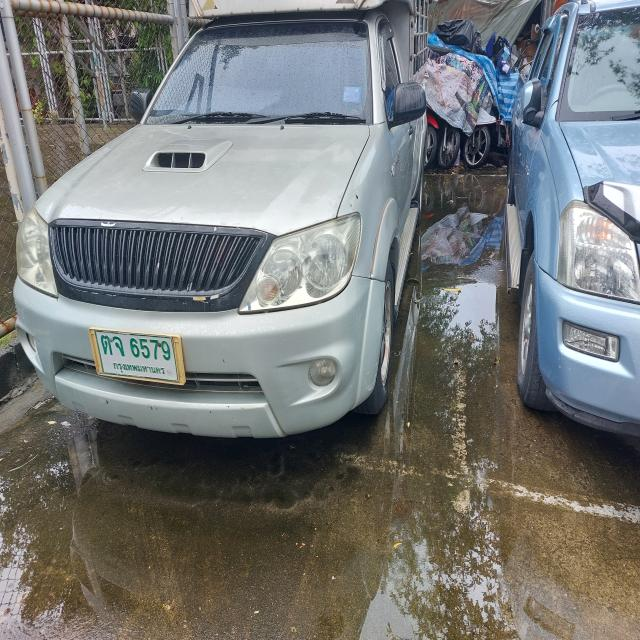license_plate: (88, 326, 186, 386)
